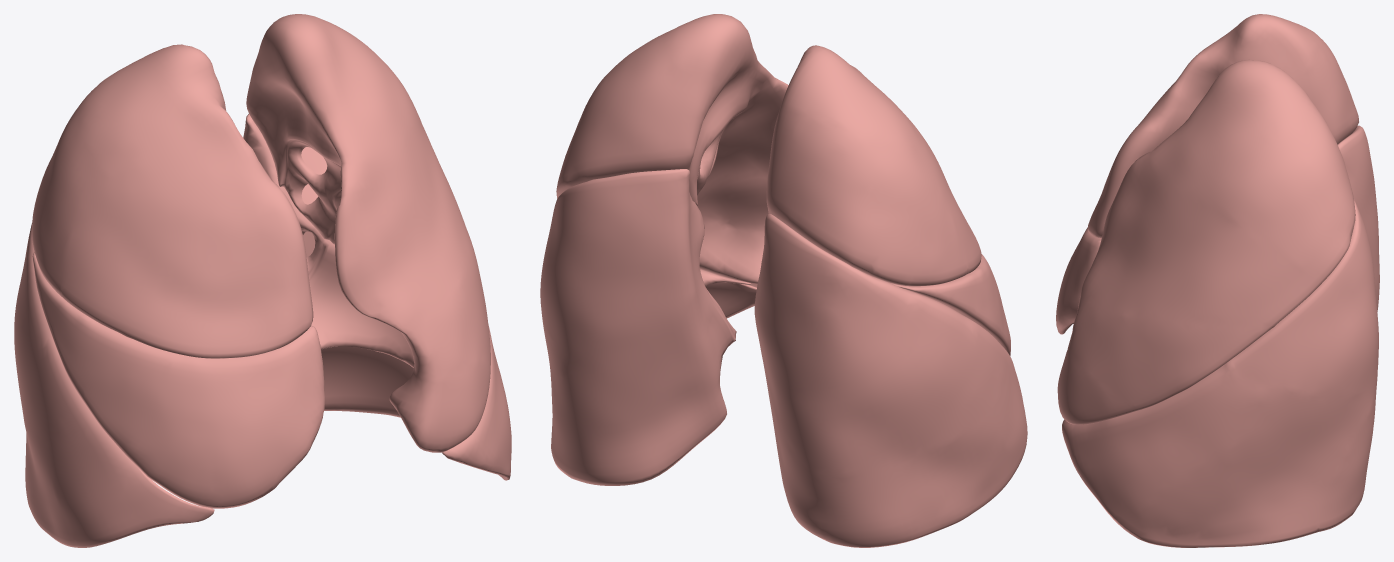
File: lungs.glb
3 renders of one model, left to right at view 1: azimuth 30°, elevation 25°; view 2: azimuth 150°, elevation 25°; view 3: azimuth 270°, elevation 25°, orthographic. The views are drawn at different scales.
Visible parts, largest first — view 1: Superior lobe of right lung, Superior lobe of left lung, Middle lobe of right lung, Inferior lobe of right lung, Inferior lobe of left lung; view 2: Inferior lobe of right lung, Inferior lobe of left lung, Superior lobe of left lung, Superior lobe of right lung, Middle lobe of right lung; view 3: Superior lobe of left lung, Inferior lobe of left lung, Superior lobe of right lung, Inferior lobe of right lung, Middle lobe of right lung.
Part boxes in pixels (x1=…): Superior lobe of right lung: x1=32, y1=44, x2=313, y2=358; Superior lobe of left lung: x1=246, y1=14, x2=490, y2=452; Middle lobe of right lung: x1=32, y1=252, x2=324, y2=508; Inferior lobe of right lung: x1=14, y1=223, x2=214, y2=547; Inferior lobe of left lung: x1=243, y1=114, x2=511, y2=480; Inferior lobe of right lung: x1=754, y1=214, x2=1027, y2=547; Inferior lobe of left lung: x1=540, y1=169, x2=756, y2=485; Superior lobe of left lung: x1=556, y1=14, x2=788, y2=287; Superior lobe of right lung: x1=766, y1=45, x2=981, y2=286; Middle lobe of right lung: x1=889, y1=254, x2=1010, y2=355; Superior lobe of left lung: x1=1057, y1=59, x2=1355, y2=424; Inferior lobe of left lung: x1=1062, y1=199, x2=1378, y2=547; Superior lobe of right lung: x1=1088, y1=14, x2=1358, y2=237; Inferior lobe of right lung: x1=1073, y1=125, x2=1379, y2=323; Middle lobe of right lung: x1=1056, y1=227, x2=1101, y2=334.
Bounding box in the file's own units: 0.261 × 0.264 × 0.1857.
